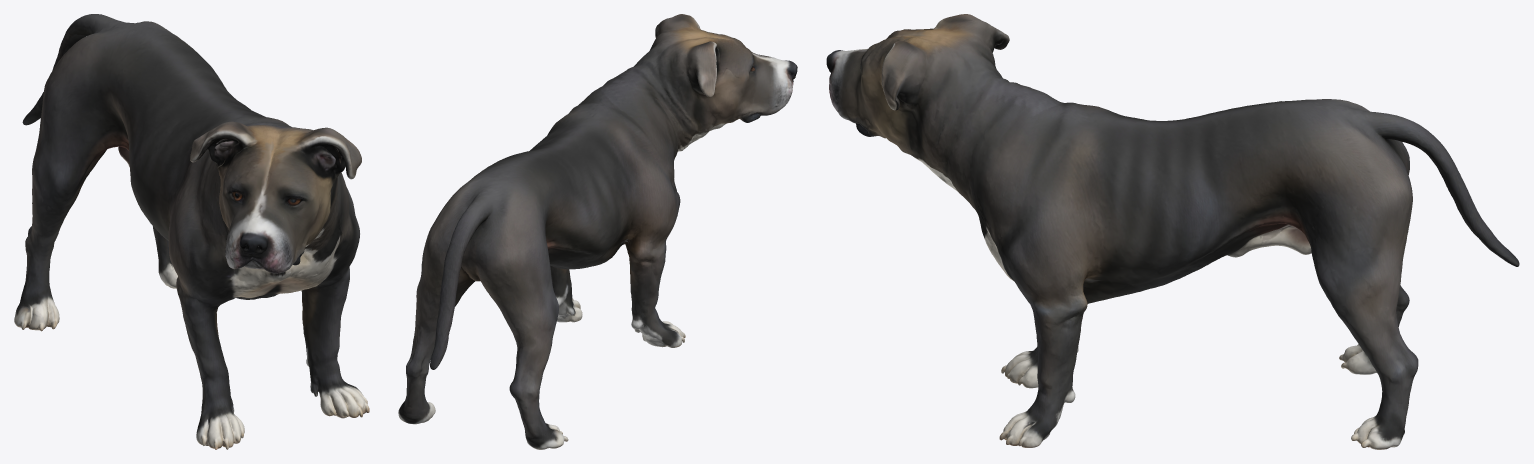
The model's file is pitbull.glb.
3 renders of one model, left to right at view 1: azimuth 30°, elevation 25°; view 2: azimuth 150°, elevation 25°; view 3: azimuth 270°, elevation 25°, orthographic. The views are drawn at different scales.
Parts seen in each view (by area): view 1: Object_2; view 2: Object_2; view 3: Object_2.
Part boxes in pixels (box(x1,y1,x2,y2)): Object_2: box(14, 14, 369, 449); Object_2: box(398, 14, 797, 449); Object_2: box(826, 14, 1519, 449).
Bounding box in the file's own units: 0.7295 × 1.07 × 1.9.
Materials: 1 (1 with a texture image).
